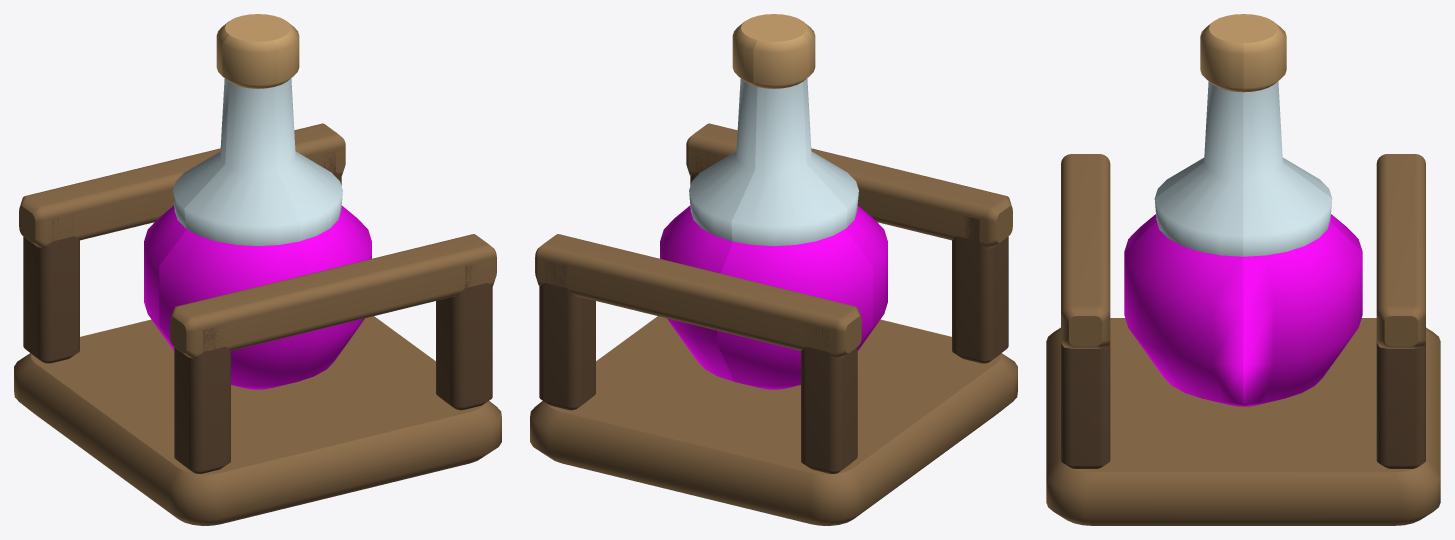
Rendered from objet_science_1.glb.
3 renders of one model, left to right at view 1: azimuth 30°, elevation 25°; view 2: azimuth 150°, elevation 25°; view 3: azimuth 270°, elevation 25°, orthographic. The views are drawn at different scales.
Parts seen in each view (by area): view 1: science_bois.002, science_bois_sombre.002, science_verre_flacon.010, science_teinte.012, science_liege.002; view 2: science_bois.002, science_bois_sombre.002, science_verre_flacon.010, science_teinte.012, science_liege.002; view 3: science_bois.002, science_teinte.012, science_verre_flacon.010, science_bois_sombre.002, science_liege.002.
Boxes of the visible parts, x1,y1,x2,y2 form: science_bois.002: (14, 123, 501, 525); science_bois_sombre.002: (23, 151, 492, 473); science_verre_flacon.010: (173, 78, 342, 246); science_teinte.012: (144, 205, 371, 389); science_liege.002: (216, 14, 299, 88); science_bois.002: (530, 123, 1017, 525); science_bois_sombre.002: (539, 150, 1008, 473); science_verre_flacon.010: (689, 78, 858, 246); science_teinte.012: (660, 205, 887, 389); science_liege.002: (732, 14, 815, 88); science_bois.002: (1046, 154, 1440, 525); science_teinte.012: (1124, 214, 1362, 406); science_verre_flacon.010: (1154, 81, 1332, 256); science_bois_sombre.002: (1061, 341, 1425, 468); science_liege.002: (1200, 14, 1286, 92).
Bounding box in the file's own units: 0.2 × 0.235 × 0.2.
